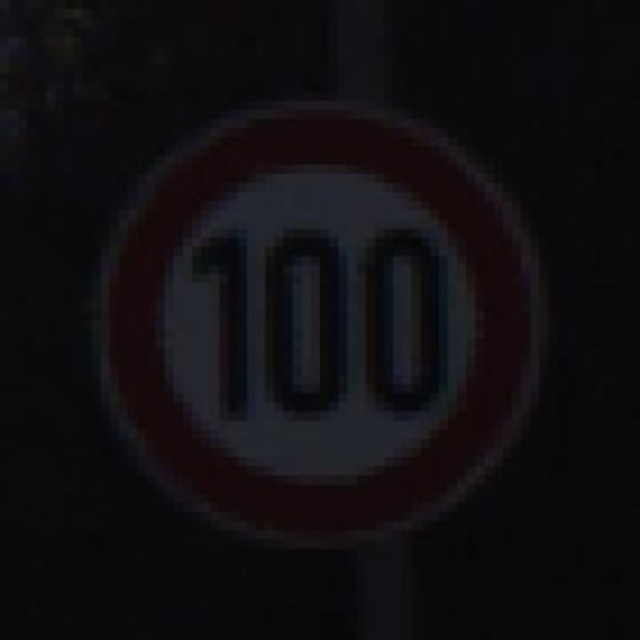Tốc độ tối đa cho phép 100km/h: (107, 110, 540, 543)
